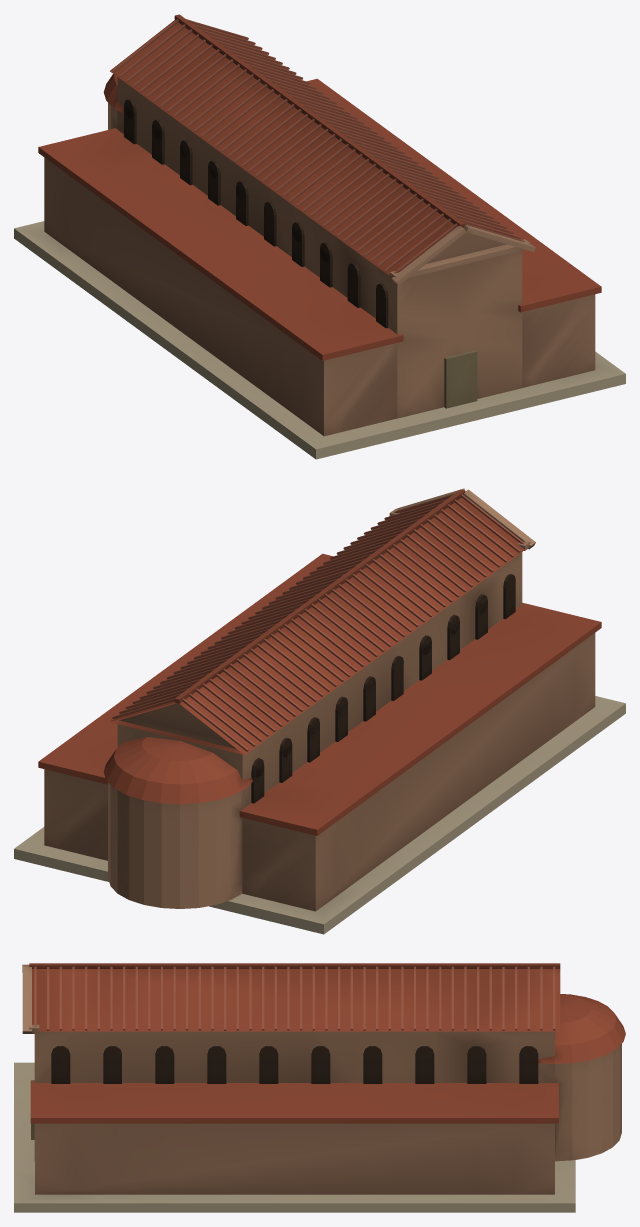
File: san-clemente-early.glb
3 views of the same model, one above another, from view 1: azimuth 30°, elevation 25°; view 2: azimuth 150°, elevation 25°; view 3: azimuth 270°, elevation 25° (orthographic). The views are drawn at different scales.
Visible parts, largest first — view 1: p2_roofs, p1_nave, p0_base; view 2: p2_roofs, p1_nave, p0_base; view 3: p1_nave, p2_roofs, p0_base.
Part boxes in pixels (box(x1,y1,x2,y2)): p2_roofs: box(38, 14, 601, 360); p1_nave: box(44, 77, 595, 436); p0_base: box(14, 221, 625, 459); p2_roofs: box(38, 488, 601, 835); p1_nave: box(44, 552, 595, 911); p0_base: box(14, 696, 625, 934); p1_nave: box(31, 1031, 621, 1194); p2_roofs: box(22, 963, 625, 1123); p0_base: box(14, 1062, 575, 1212).
Bounding box in the file's own units: 32 × 18.9 × 58.84.
